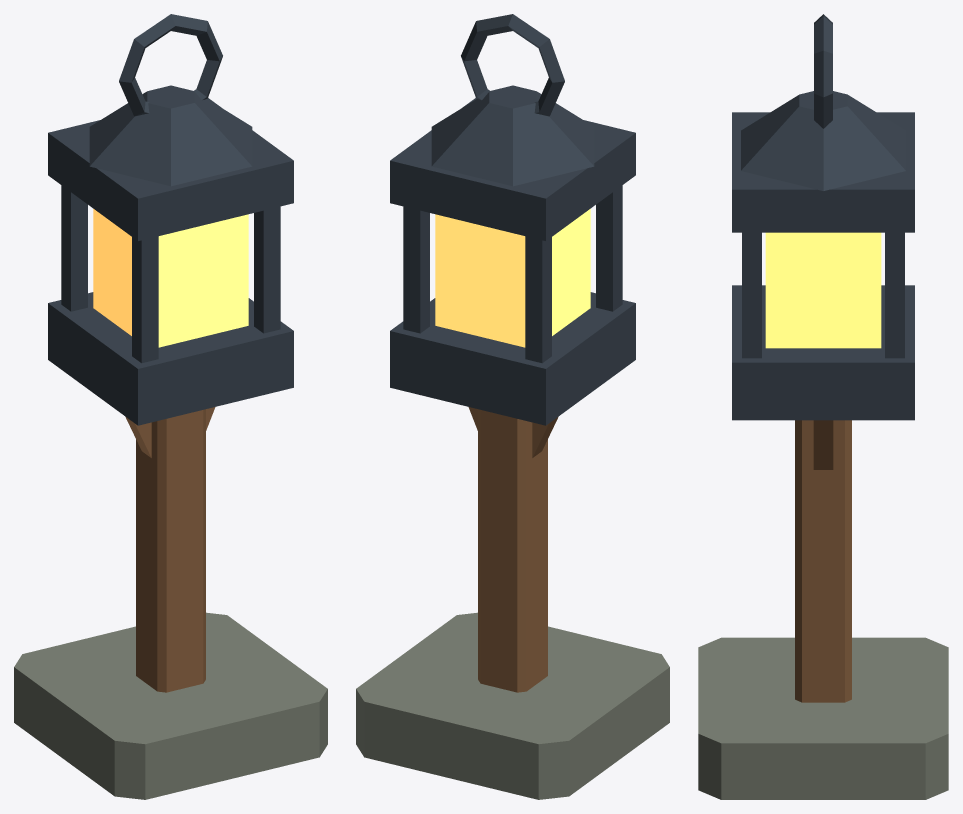
File: deco_garden_lantern.glb
The picture shows the model from 3 angles, left to right: view 1: azimuth 30°, elevation 25°; view 2: azimuth 150°, elevation 25°; view 3: azimuth 270°, elevation 25°; orthographic projection.
Visible parts, largest first — view 1: geometry, light; view 2: geometry, light; view 3: geometry, light.
Boxes of the visible parts, bbox=[...] form: geometry: bbox=[14, 14, 327, 799]; light: bbox=[93, 209, 248, 347]; geometry: bbox=[356, 14, 669, 799]; light: bbox=[435, 209, 590, 347]; geometry: bbox=[698, 14, 948, 799]; light: bbox=[765, 232, 881, 348].
Bounding box in the file's own units: 0.44 × 1.42 × 0.44.
